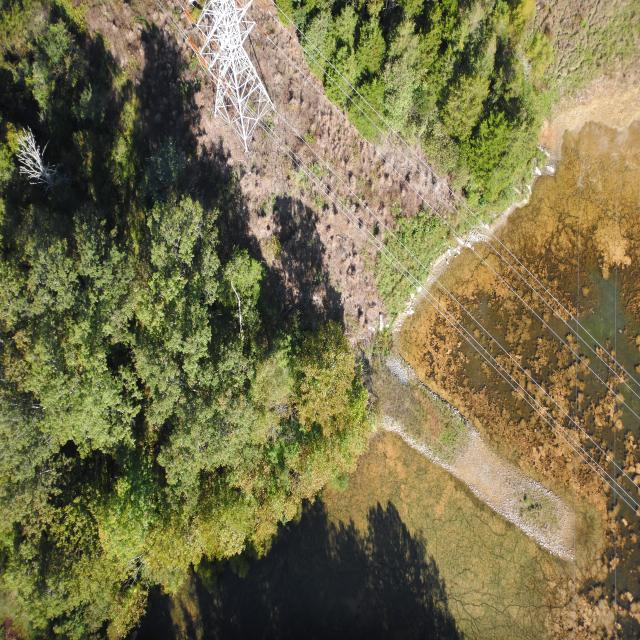Area of Interest: (16, 222, 381, 629), (311, 13, 530, 195)
